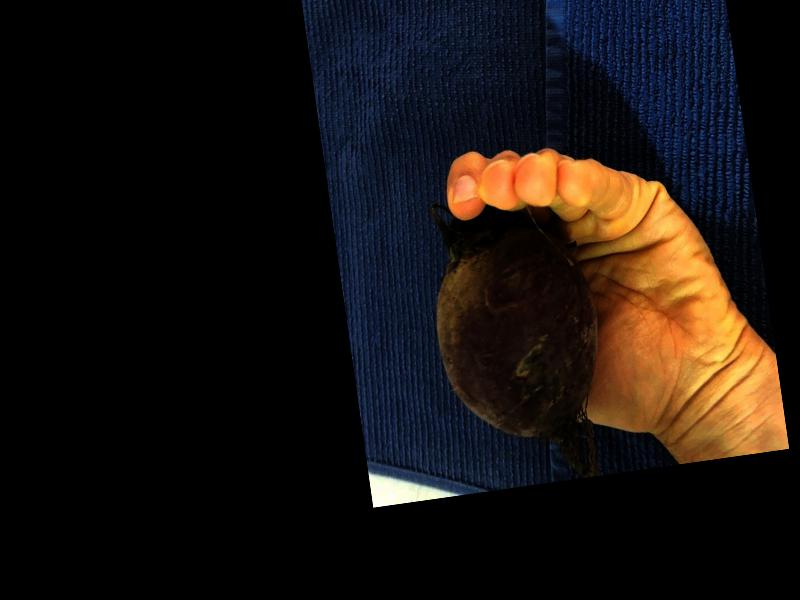Beet: (419, 179, 619, 492)
